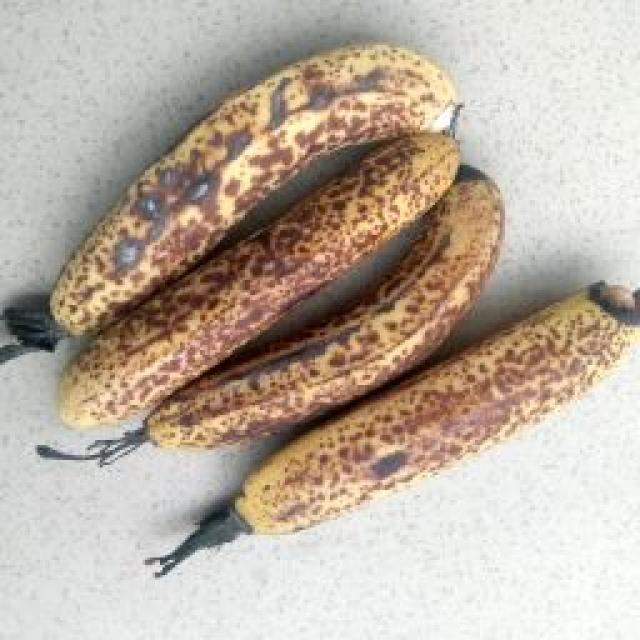banana: (78, 52, 623, 487)
